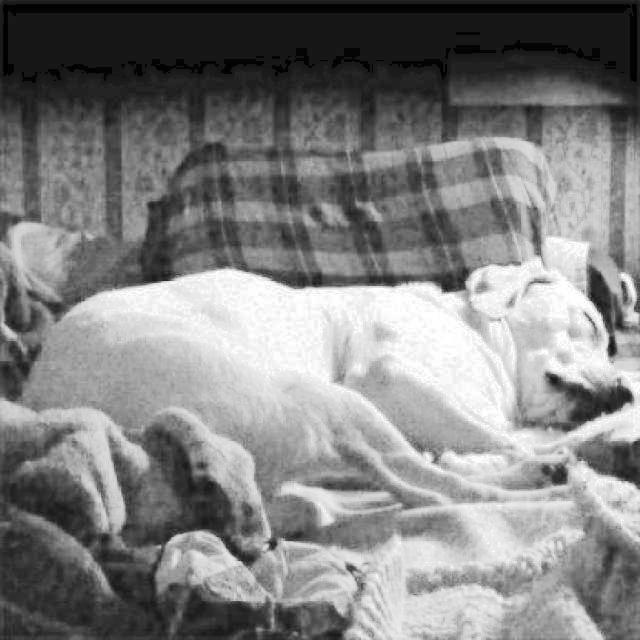Dog: (26, 237, 640, 492)
